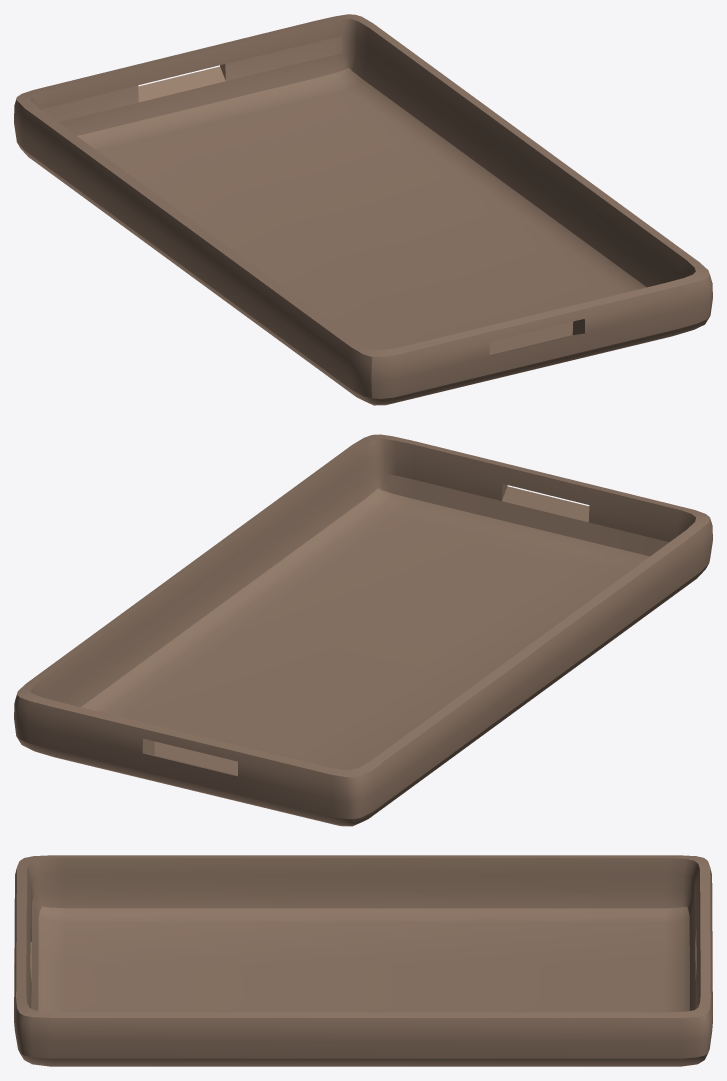
File: Tray.glb
The picture shows the model from 3 angles, top to bottom: view 1: azimuth 30°, elevation 25°; view 2: azimuth 150°, elevation 25°; view 3: azimuth 270°, elevation 25°; orthographic projection. The views are drawn at different scales.
Visible parts, largest first — view 1: Tray; view 2: Tray; view 3: Tray.
Boxes of the visible parts, box(x1,y1,x2,y2) form: Tray: box(14, 14, 712, 405); Tray: box(14, 434, 712, 826); Tray: box(14, 855, 712, 1066).
Bounding box in the file's own units: 0.2379 × 0.0388 × 0.4271.
Materials: 1 (1 with a texture image).
